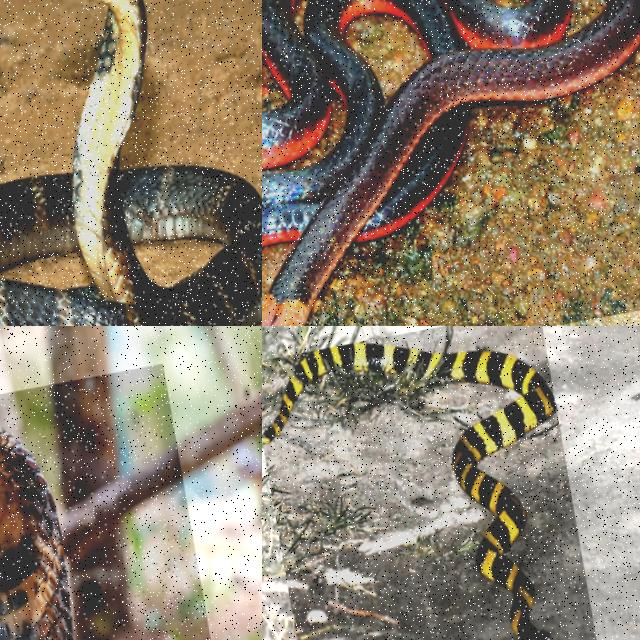Bungarus fasciatus: (263, 346, 556, 639)
Calliophis intestinalis: (262, 0, 639, 325)
Ophiophagus hannah: (0, 0, 261, 325), (0, 426, 74, 639)
